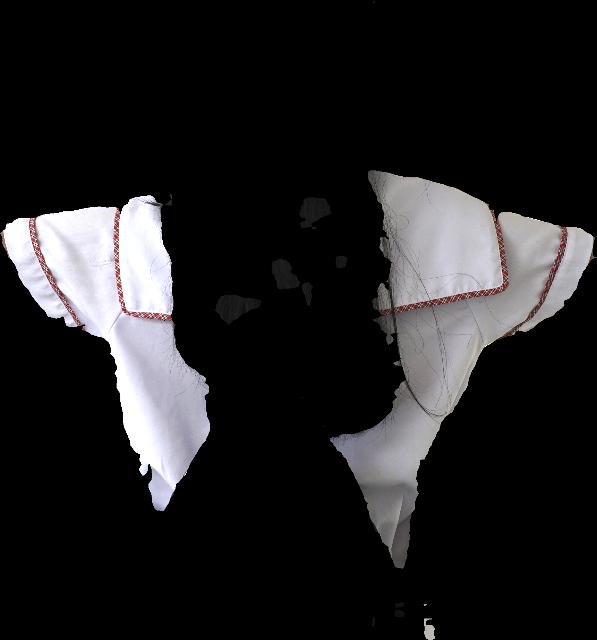pologirl: (330, 171, 595, 568)
